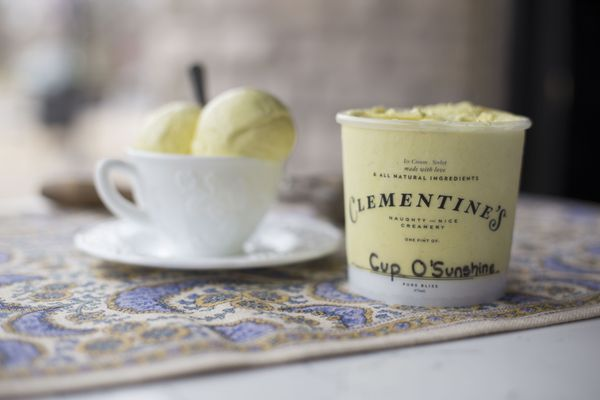pizza: (335, 99, 532, 307), (93, 82, 297, 256), (91, 146, 287, 257)
